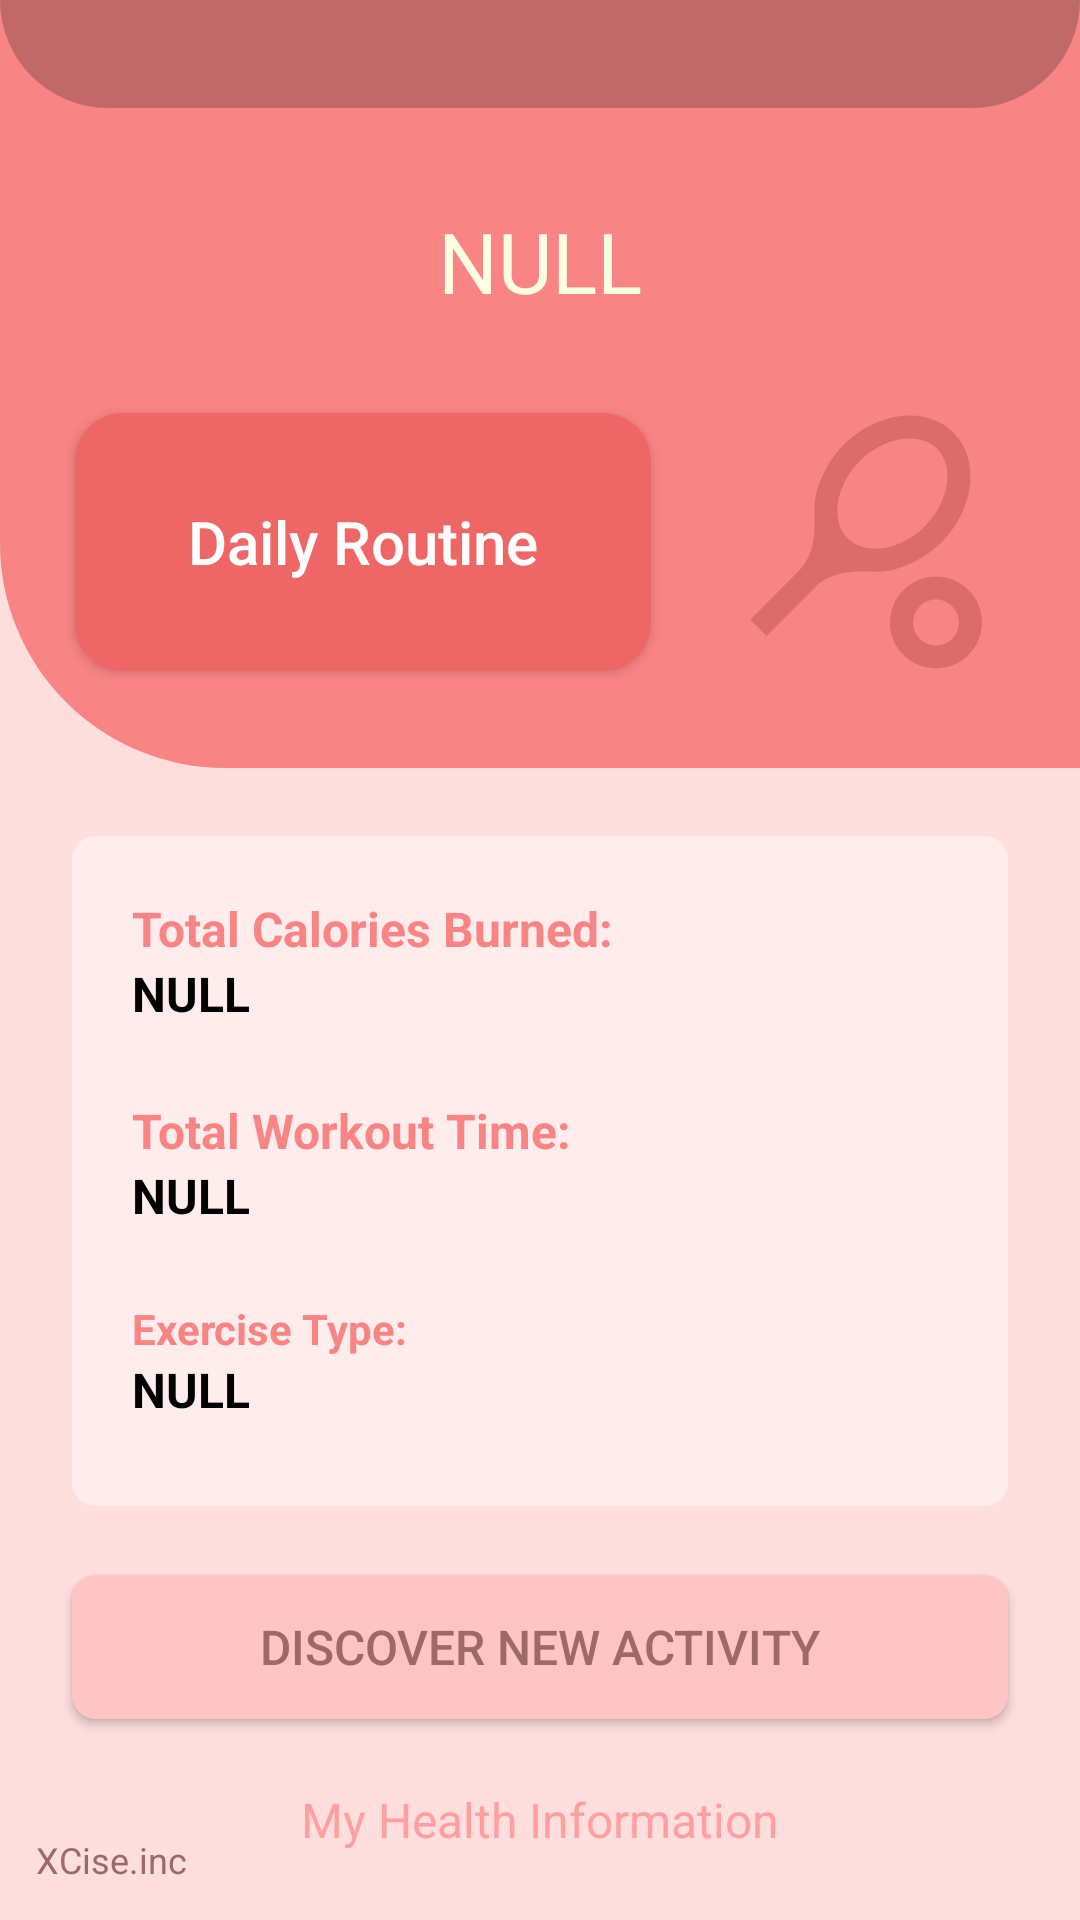

Icon click points for this 1080*1920 phone screenshot, format (x=x, y=y):
sports tennis: (x=866, y=542)
